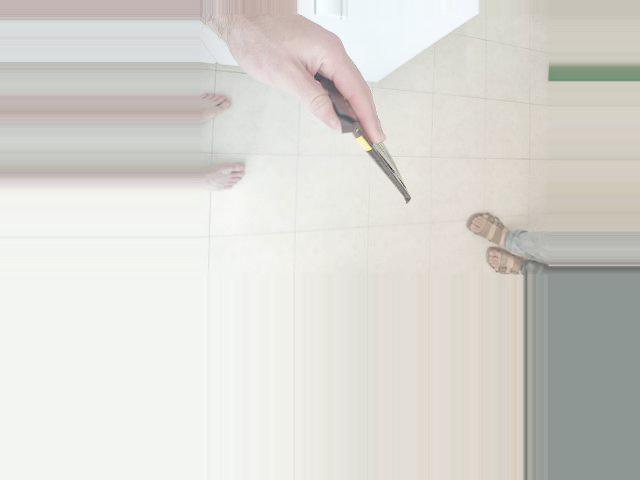chocolate: (336, 146, 480, 257)
